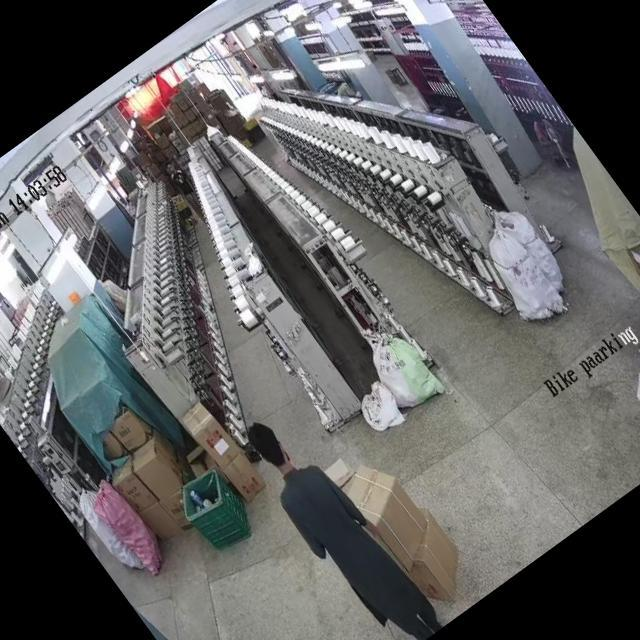person: (231, 398, 449, 640), (158, 156, 206, 212)
